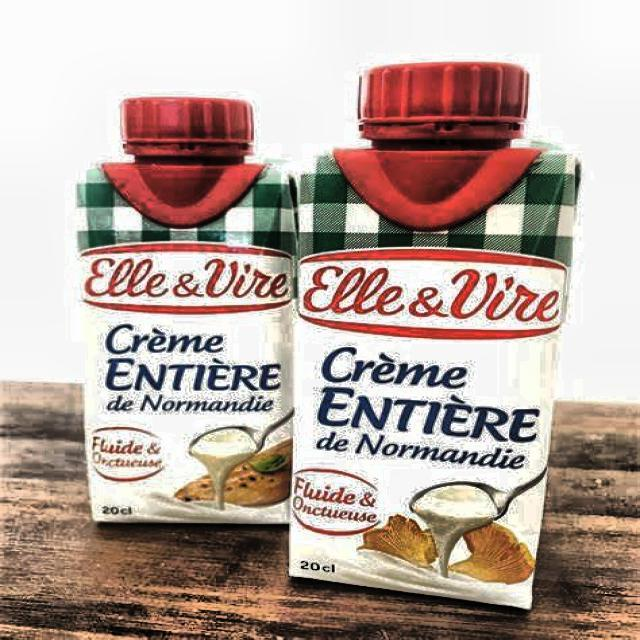cardboard: (288, 60, 580, 610), (74, 93, 297, 526)
